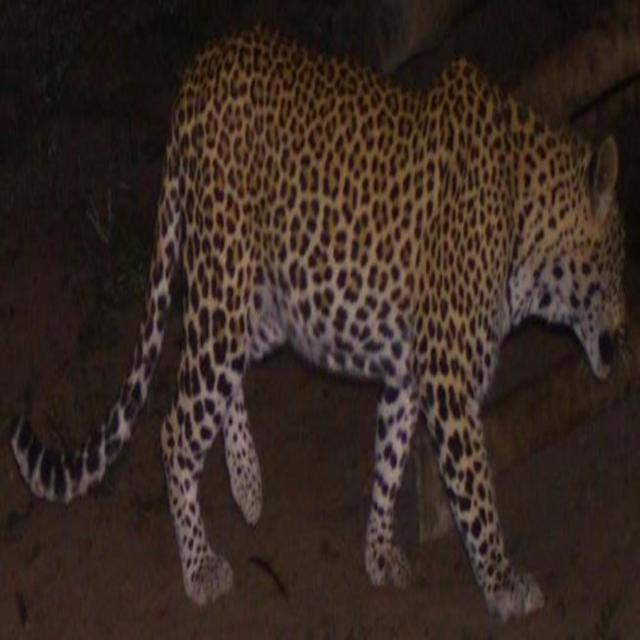Leopard: (33, 27, 624, 640)
